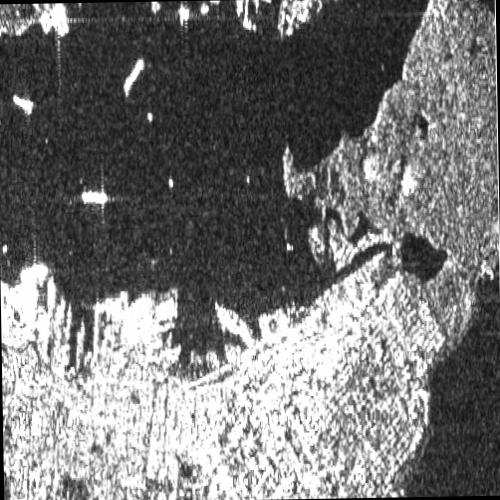ship: (123, 56, 146, 98), (75, 316, 85, 375), (12, 93, 34, 115), (81, 189, 108, 206), (63, 301, 73, 346)
